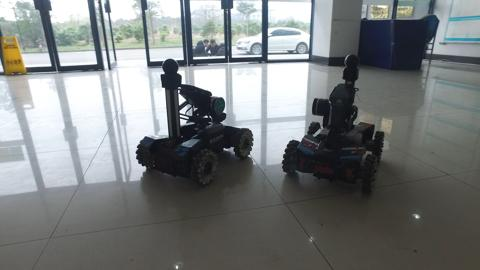chariot: (124, 55, 257, 197), (278, 44, 400, 198)
